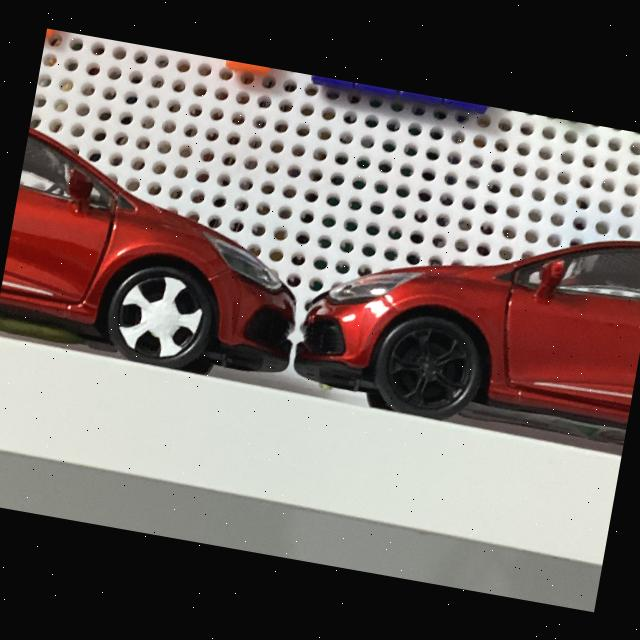Dogru_Jant: (384, 322, 472, 412)
Yanlis_Jant: (112, 268, 206, 366)
